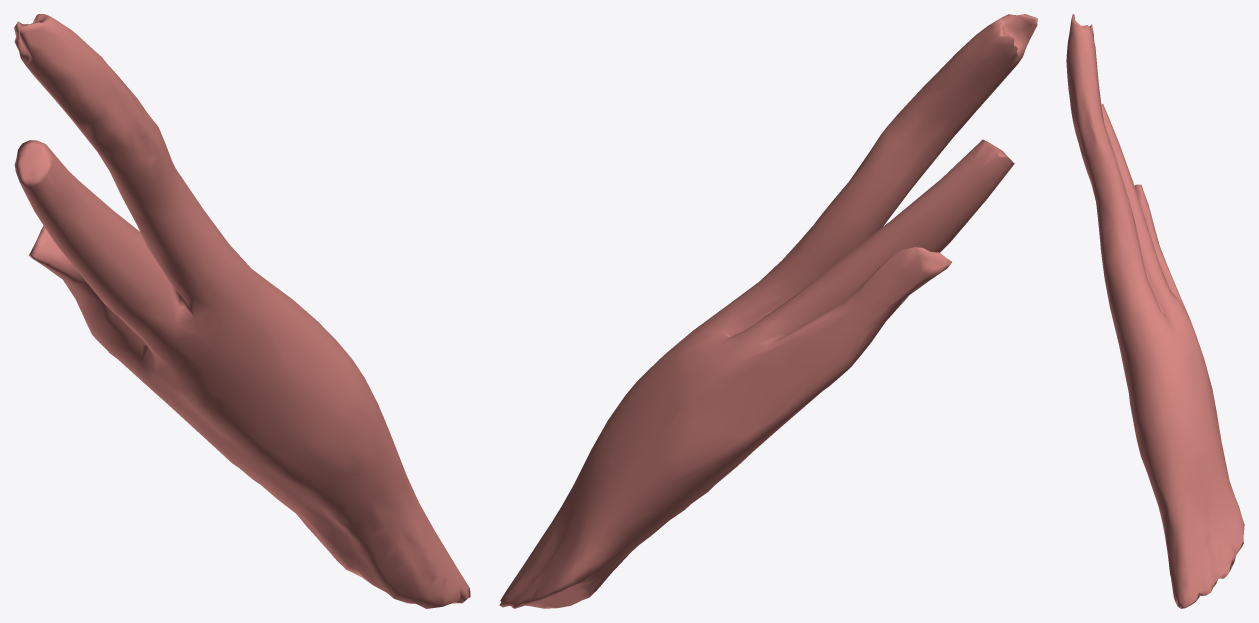
Rendered from fma13389_mm1297.glb.
The picture shows the model from 3 angles, left to right: view 1: azimuth 30°, elevation 25°; view 2: azimuth 150°, elevation 25°; view 3: azimuth 270°, elevation 25°; orthographic projection. The views are drawn at different scales.
Visible parts, largest first — view 1: FMA13389_MM1297; view 2: FMA13389_MM1297; view 3: FMA13389_MM1297.
Part boxes in pixels (<box>): FMA13389_MM1297: <box>14,14,470,608</box>; FMA13389_MM1297: <box>499,14,1037,608</box>; FMA13389_MM1297: <box>1066,14,1244,608</box>.
Size of the model in its own units: 0.0471 by 0.0636 by 0.0231.
